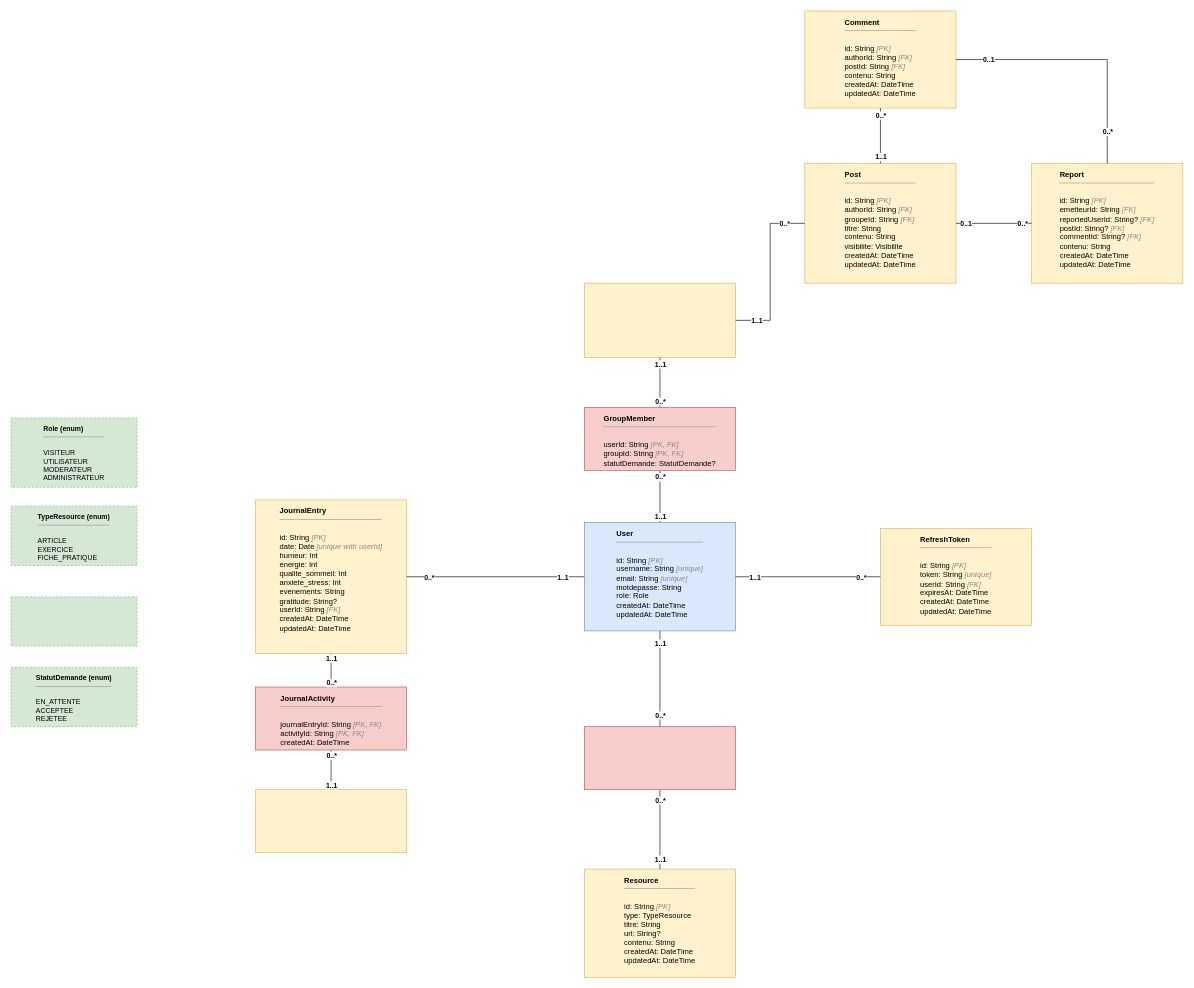
The diagram is 1194 pixels wide and 988 high, and some of its shapes have lost their labels. Each missing label, with the centre of its shape:
"Activity id: String [PK] nom: String [unique] createdAt: DateTime" belongs at pixel 331 821.
"Favorite userId: String [PK, FK] resourceId: String [PK, FK] createdAt: DateTime" belongs at pixel 660 758.
"Group id: String [PK] nom: String description: String createdAt: DateTime" belongs at pixel 660 320.
"Visibilite (enum) PUBLIQUE PRIVE" belongs at pixel 73 621.
